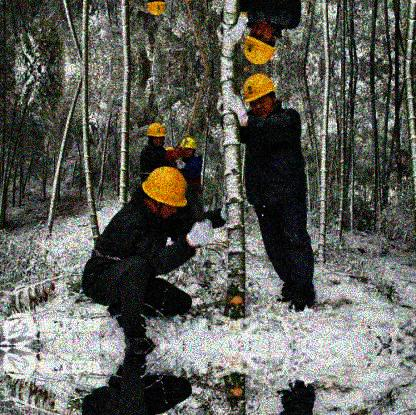helmet: (142, 165, 189, 223), (243, 74, 277, 119), (243, 20, 275, 66), (146, 122, 166, 148)
